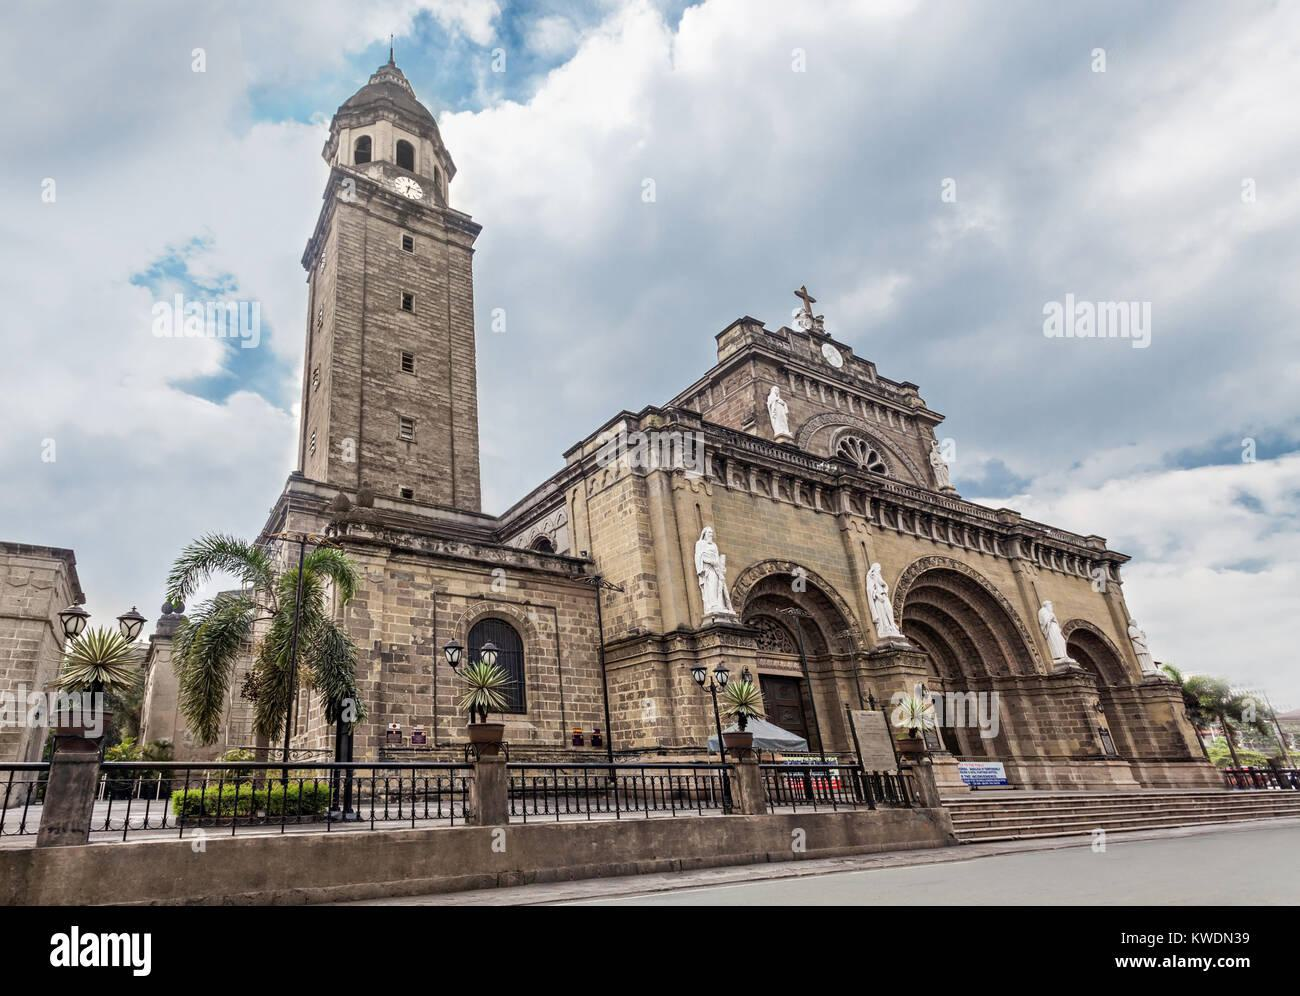manila_cathedral_church_intramuros_manila: (255, 26, 1189, 762)
